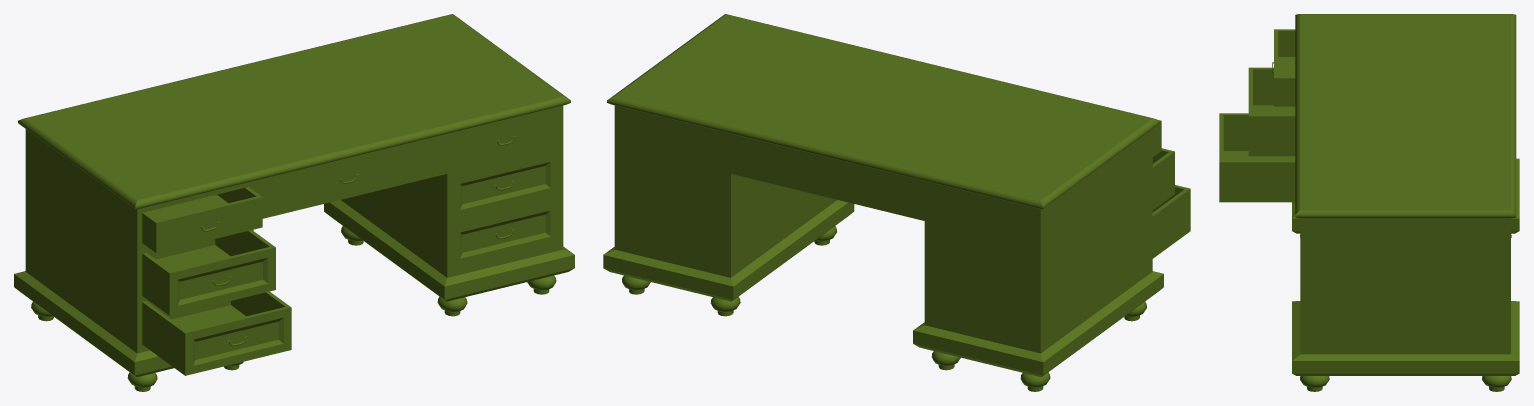
Rendered from Office_Table.FBX.
3 renders of one model, left to right at view 1: azimuth 30°, elevation 25°; view 2: azimuth 150°, elevation 25°; view 3: azimuth 270°, elevation 25°, orthographic. The views are drawn at different scales.
Parts seen in each view (by area): view 1: Office_Table002, Office_Table_Drawer_006, Office_Table_Drawer_004, Office_Table_Drawer_005, Office_Table_Drawer001, Office_Table_Drawer_008, Office_Table_Drawer_007, Office_Table_Drawer002; view 2: Office_Table002, Office_Table_Drawer_006, Office_Table_Drawer_004; view 3: Office_Table002, Office_Table_Drawer_006, Office_Table_Drawer_004, Office_Table_Drawer001.
Boxes of the visible parts, x1,y1,x2,y2 form: Office_Table002: (14,14,574,391); Office_Table_Drawer_006: (142,291,291,375); Office_Table_Drawer_004: (142,230,275,315); Office_Table_Drawer_005: (258,140,442,213); Office_Table_Drawer001: (142,187,262,253); Office_Table_Drawer_008: (452,152,558,219); Office_Table_Drawer_007: (452,200,558,268); Office_Table_Drawer002: (452,111,558,167); Office_Table002: (603,14,1163,391); Office_Table_Drawer_006: (1152,185,1190,258); Office_Table_Drawer_004: (1152,148,1174,209); Office_Table002: (1292,14,1519,391); Office_Table_Drawer_006: (1219,113,1295,202); Office_Table_Drawer_004: (1248,67,1295,156); Office_Table_Drawer001: (1272,29,1295,106).
Size of the model in its own units: 227 by 97.08 by 142.
